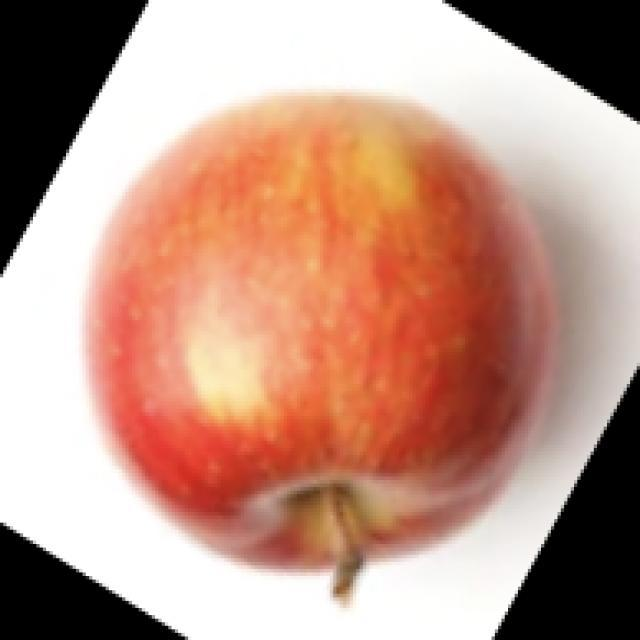Fresh Apple: (118, 102, 550, 583)
